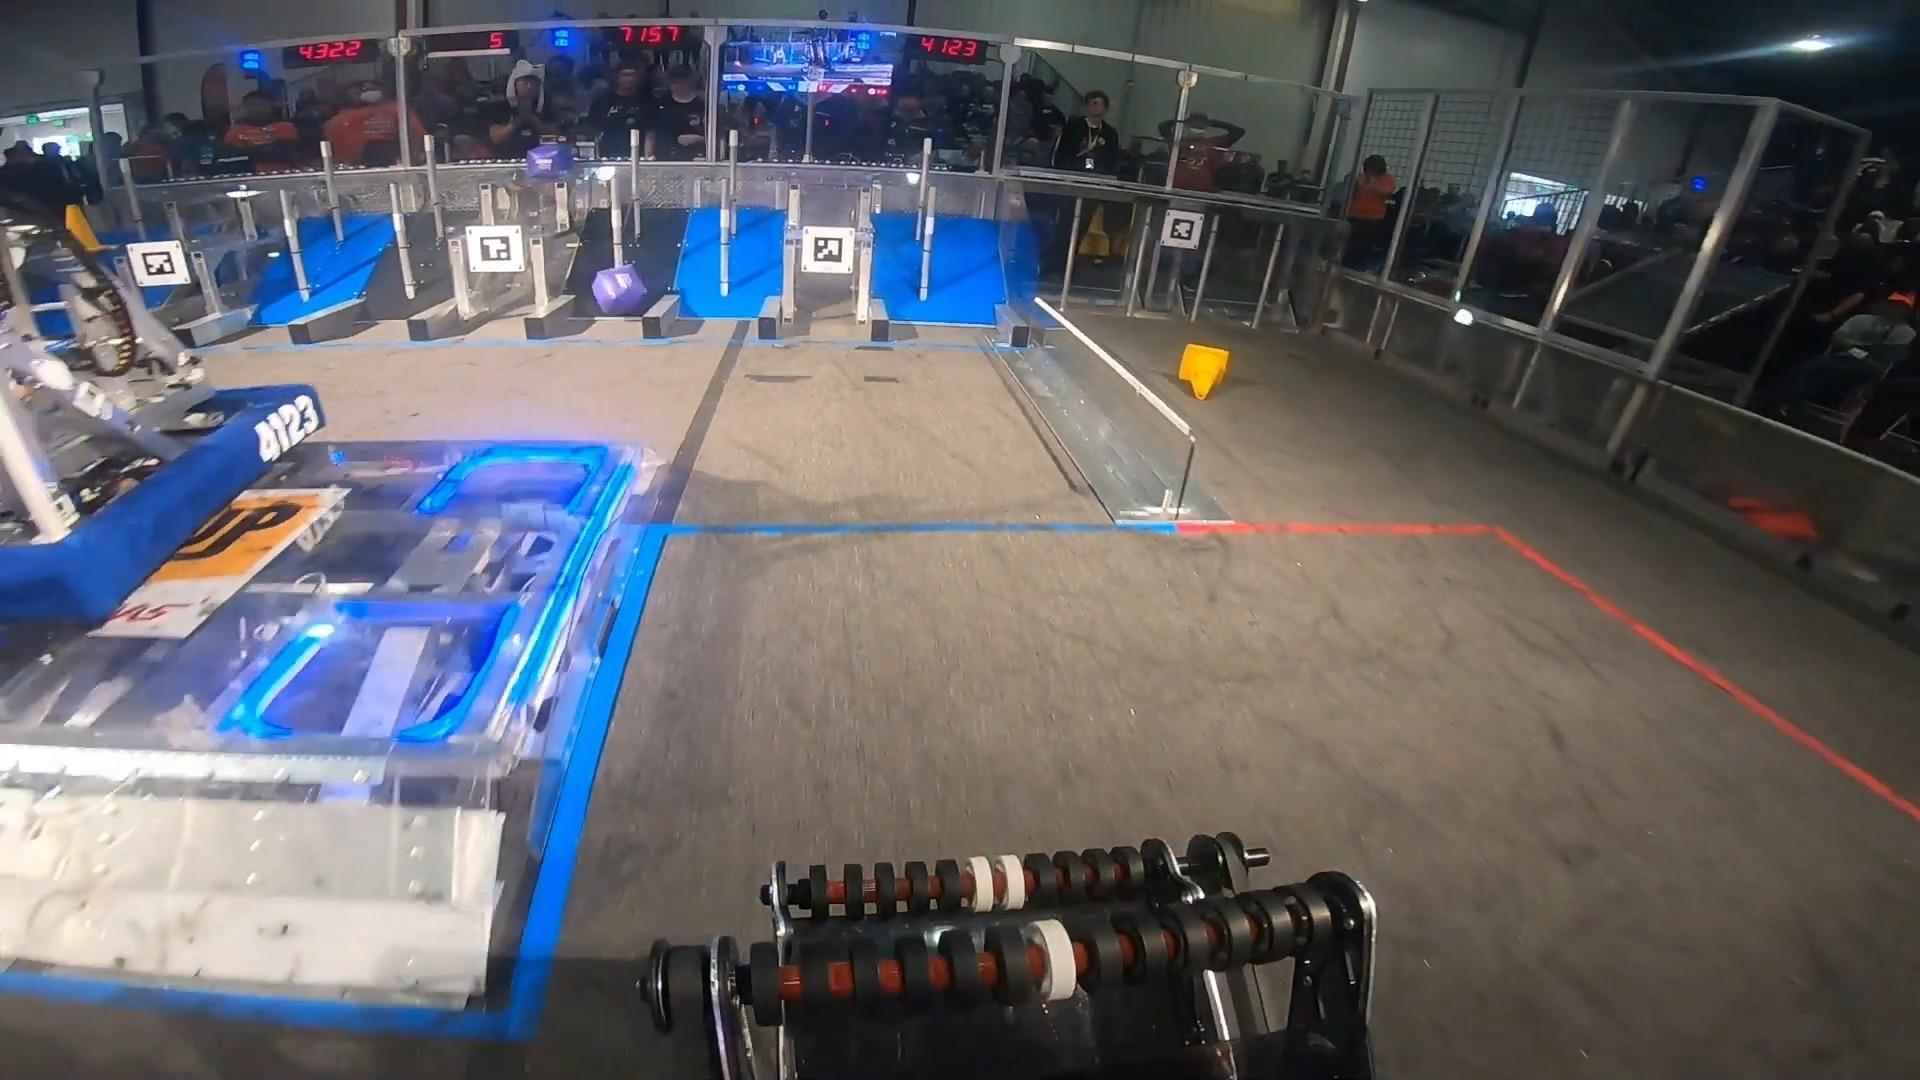robot: (0, 212, 327, 629)
